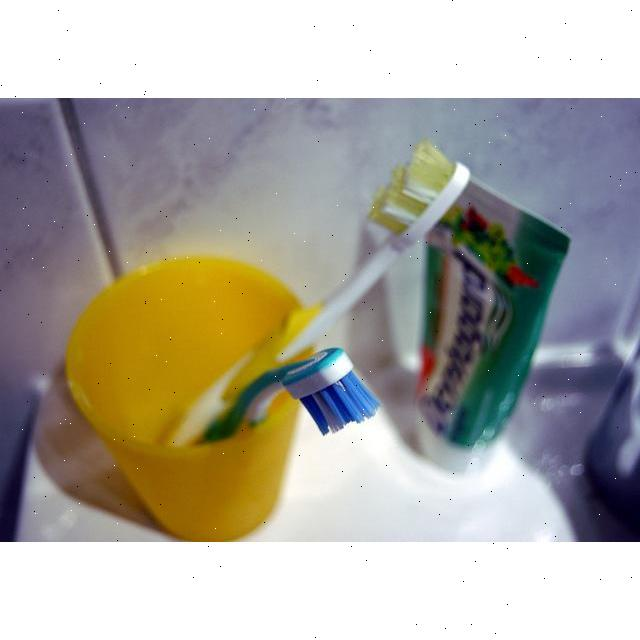toothbrush: (160, 138, 472, 446), (64, 258, 316, 536), (204, 346, 376, 444)
